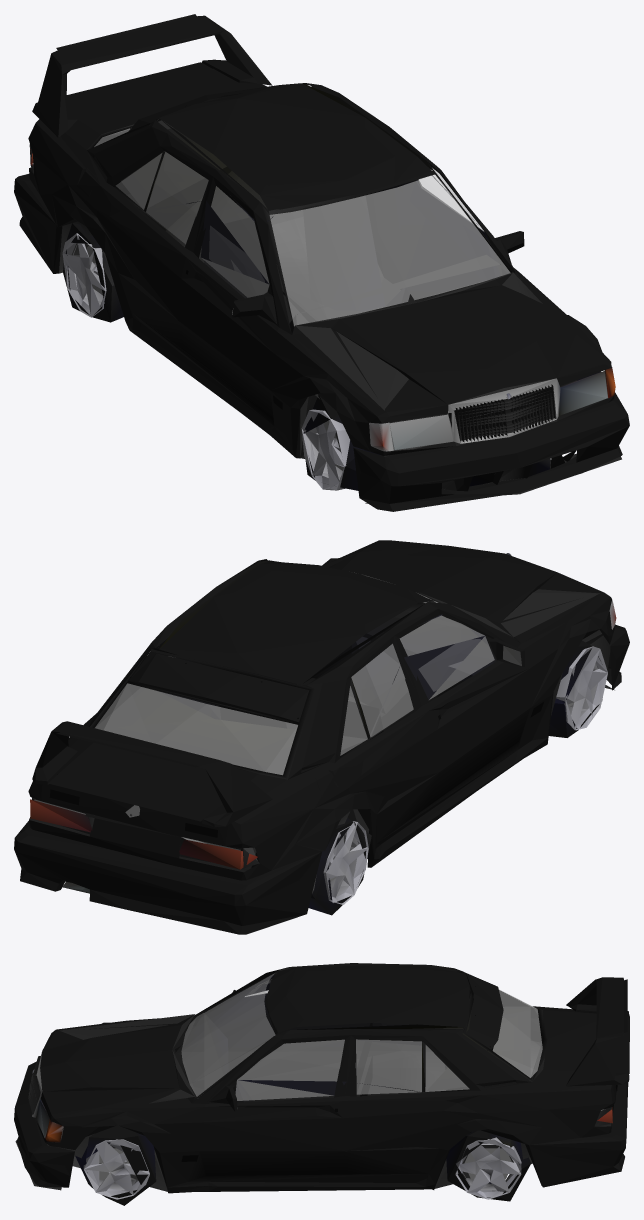
The model's file is voiture_merco.glb.
3 views of the same model, one above another, from view 1: azimuth 30°, elevation 25°; view 2: azimuth 150°, elevation 25°; view 3: azimuth 270°, elevation 25° (orthographic). The views are drawn at different scales.
Parts seen in each view (by area): view 1: LOD_A_REARBUMPER_mm_ext, LOD_A_STEERING_WHEEL_mm_cab, LOD_A_GLASS_FRONT_mm_windows, LOD_A_BRAKE_CALIPER_FRONT_LEFT_mm_misc003, LOD_A_HEADLIGHT_LENS_LEFT_mm_lights, LOD_A_WHEEL_mm_wheel003, LOD_A_GLASS_RIGHT_QUARTER_mm_windows, LOD_A_GLASS_RIGHT_mm_windows, LOD_A_TYRE_mm_tyre003, LOD_A_CHASSIS_mm_chassis, LOD_A_GLASS_LEFT_mm_windows; view 2: LOD_A_REARBUMPER_mm_ext, LOD_A_STEERING_WHEEL_mm_cab, LOD_A_GLASS_REAR_mm_windows, LOD_A_BRAKE_CALIPER_FRONT_LEFT_mm_misc003, LOD_A_WHEEL_mm_wheel003, LOD_A_GLASS_RIGHT_QUARTER_mm_windows, LOD_A_GLASS_RIGHT_mm_windows, LOD_A_TYRE_mm_tyre003, LOD_A_HEADLIGHT_LENS_LEFT_mm_lights, LOD_A_CHASSIS_mm_chassis, LOD_A_DOOR_RIGHT_mm_badges; view 3: LOD_A_REARBUMPER_mm_ext, LOD_A_STEERING_WHEEL_mm_cab, LOD_A_GLASS_FRONT_mm_windows, LOD_A_BRAKE_CALIPER_FRONT_LEFT_mm_misc003, LOD_A_WHEEL_mm_wheel003, LOD_A_GLASS_LEFT_QUARTER_mm_windows, LOD_A_GLASS_LEFT_mm_windows, LOD_A_TYRE_mm_tyre003, LOD_A_GLASS_REAR_mm_windows, LOD_A_CHASSIS_mm_chassis, LOD_A_HEADLIGHT_LENS_LEFT_mm_lights, LOD_A_ROTOR_mm_rotor003.
Boxes of the visible parts, x1,y1,x2,y2 form: LOD_A_REARBUMPER_mm_ext: [14, 14, 629, 511]; LOD_A_STEERING_WHEEL_mm_cab: [121, 128, 502, 425]; LOD_A_GLASS_FRONT_mm_windows: [270, 175, 509, 325]; LOD_A_BRAKE_CALIPER_FRONT_LEFT_mm_misc003: [29, 84, 621, 503]; LOD_A_HEADLIGHT_LENS_LEFT_mm_lights: [30, 149, 615, 451]; LOD_A_WHEEL_mm_wheel003: [62, 233, 349, 490]; LOD_A_GLASS_RIGHT_QUARTER_mm_windows: [116, 152, 208, 243]; LOD_A_GLASS_RIGHT_mm_windows: [202, 186, 269, 297]; LOD_A_TYRE_mm_tyre003: [63, 223, 600, 490]; LOD_A_CHASSIS_mm_chassis: [36, 181, 613, 488]; LOD_A_GLASS_LEFT_mm_windows: [418, 169, 483, 231]; LOD_A_REARBUMPER_mm_ext: [14, 540, 629, 934]; LOD_A_STEERING_WHEEL_mm_cab: [95, 611, 496, 774]; LOD_A_GLASS_REAR_mm_windows: [95, 683, 297, 774]; LOD_A_BRAKE_CALIPER_FRONT_LEFT_mm_misc003: [29, 560, 614, 893]; LOD_A_WHEEL_mm_wheel003: [323, 646, 607, 904]; LOD_A_GLASS_RIGHT_QUARTER_mm_windows: [340, 644, 413, 755]; LOD_A_GLASS_RIGHT_mm_windows: [400, 615, 494, 699]; LOD_A_TYRE_mm_tyre003: [308, 640, 602, 915]; LOD_A_HEADLIGHT_LENS_LEFT_mm_lights: [30, 600, 616, 869]; LOD_A_CHASSIS_mm_chassis: [65, 603, 611, 893]; LOD_A_DOOR_RIGHT_mm_badges: [49, 553, 543, 837]; LOD_A_REARBUMPER_mm_ext: [14, 963, 629, 1193]; LOD_A_STEERING_WHEEL_mm_cab: [181, 974, 530, 1102]; LOD_A_GLASS_FRONT_mm_windows: [181, 973, 275, 1096]; LOD_A_BRAKE_CALIPER_FRONT_LEFT_mm_misc003: [15, 965, 611, 1190]; LOD_A_WHEEL_mm_wheel003: [83, 1137, 521, 1199]; LOD_A_GLASS_LEFT_QUARTER_mm_windows: [356, 1039, 468, 1094]; LOD_A_GLASS_LEFT_mm_windows: [235, 1040, 344, 1100]; LOD_A_TYRE_mm_tyre003: [75, 1125, 530, 1205]; LOD_A_GLASS_REAR_mm_windows: [493, 990, 542, 1077]; LOD_A_CHASSIS_mm_chassis: [50, 1041, 541, 1191]; LOD_A_HEADLIGHT_LENS_LEFT_mm_lights: [32, 1051, 612, 1142]; LOD_A_ROTOR_mm_rotor003: [99, 1148, 511, 1179].
Bounding box in the file's own units: 1.89 × 1.3 × 4.45.
